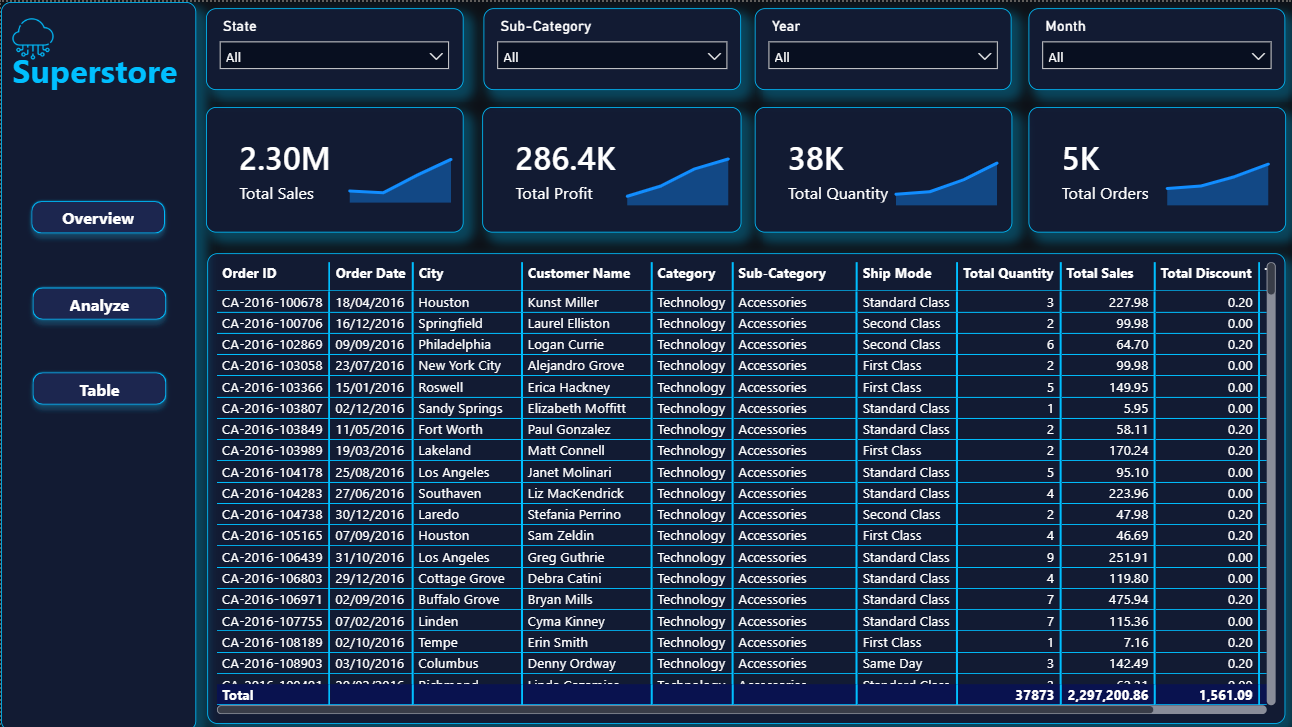

The page's visual inventory and layout, read from the dashboard file:
{"tool":"powerbi","page":{"name":"Table","canvas":[1280,720],"ordinal":2},"visuals":[{"type":"tableEx","fields":{"Values":["Fact_Orders.Order ID","Fact_Orders.Order Date","Dim_Country.City","Dim_Customer.Customer Name","Dim_Category.Category","Dim_Sub-Category.Sub-Category","Dim_Ship Mode.Ship Mode","DAX_Measure (2).Total Quantity","DAX_Measure (2).Total Sales","DAX_Measure (2).Total Discount","DAX_Measure (2).Total Profit"]},"box":[203.8,248.2,1064.6,464.7],"z":0},{"type":"shape","box":[0,0,192.9,720.2],"z":1000},{"type":"actionButton","box":[20.4,188.1,150,50],"z":2000},{"type":"actionButton","box":[21.9,272.4,150,50],"z":3000},{"type":"actionButton","box":[22.5,356.7,150,50],"z":4000},{"type":"textbox","box":[6,40.7,190.5,63.1],"z":5000},{"type":"image","box":[0,15.7,63.1,40.5],"z":6000},{"type":"cardVisual","fields":{"Data":["DAX_Measure (2).Total Sales"]},"box":[202.6,104,254.8,123.8],"z":7000},{"type":"areaChart","fields":{"Category":["Fact_Orders.Order Date.Variation.Date Hierarchy.Year","Fact_Orders.Order Date.Variation.Date Hierarchy.Quarter","Fact_Orders.Order Date.Variation.Date Hierarchy.Month","Fact_Orders.Order Date.Variation.Date Hierarchy.Day"],"Y":["DAX_Measure (2).Total Sales"]},"box":[329.8,133.7,130,70],"z":8000},{"type":"cardVisual","fields":{"Data":["DAX_Measure (2).Total Orders"]},"box":[1014.3,103.6,254.8,123.8],"z":9000},{"type":"cardVisual","fields":{"Data":["DAX_Measure (2).Total Profit"]},"box":[475,103.6,256,123.8],"z":10000},{"type":"cardVisual","fields":{"Data":["DAX_Measure (2).Total Quantity"]},"box":[744,103.6,254.8,123.8],"z":11000},{"type":"areaChart","fields":{"Category":["Fact_Orders.Order Date.Variation.Date Hierarchy.Year","Fact_Orders.Order Date.Variation.Date Hierarchy.Quarter","Fact_Orders.Order Date.Variation.Date Hierarchy.Month","Fact_Orders.Order Date.Variation.Date Hierarchy.Day"],"Y":["DAX_Measure (2).Total Profit"]},"box":[603.6,135.7,129.8,70.2],"z":12000},{"type":"areaChart","fields":{"Category":["Fact_Orders.Order Date.Variation.Date Hierarchy.Year","Fact_Orders.Order Date.Variation.Date Hierarchy.Quarter","Fact_Orders.Order Date.Variation.Date Hierarchy.Month","Fact_Orders.Order Date.Variation.Date Hierarchy.Day"],"Y":["DAX_Measure (2).Total Quantity"]},"box":[869,135.7,129.8,70.2],"z":13000},{"type":"areaChart","fields":{"Category":["Fact_Orders.Order Date.Variation.Date Hierarchy.Year","Fact_Orders.Order Date.Variation.Date Hierarchy.Quarter","Fact_Orders.Order Date.Variation.Date Hierarchy.Month","Fact_Orders.Order Date.Variation.Date Hierarchy.Day"],"Y":["DAX_Measure (2).Total Orders"]},"box":[1136.9,135.7,129.8,70.2],"z":14000},{"type":"slicer","fields":{"Values":["Dim_Country.State"]},"box":[202.4,6,254,81],"z":15000},{"type":"slicer","fields":{"Values":["Dim_Sub-Category.Sub-Category"]},"box":[476.2,6,254.8,81],"z":16000},{"type":"slicer","fields":{"Values":["Fact_Orders.Year"]},"box":[744,6,253.6,81],"z":17000},{"type":"slicer","fields":{"Values":["Fact_Orders.Month"]},"box":[1014.3,6,253.6,81],"z":18000}]}

Visuals, with their boxes in screenshot pixels (x1, y1, x2, y2), scaled from the page's 1280x720 canvas onto the 1292x727 screenshot:
tableEx - Fact_Orders.Order ID x Fact_Orders.Order Date: Rect(206, 251, 1280, 720)
shape: Rect(0, 0, 195, 726)
actionButton: Rect(21, 190, 172, 240)
actionButton: Rect(22, 275, 174, 326)
actionButton: Rect(23, 360, 174, 411)
textbox: Rect(6, 41, 198, 105)
image: Rect(0, 16, 64, 57)
cardVisual - DAX_Measure (2).Total Sales: Rect(204, 105, 462, 230)
areaChart - Fact_Orders.Order Date.Variation.Date Hierarchy.Year x Fact_Orders.Order Date.Variation.Date Hierarchy.Quarter: Rect(333, 135, 464, 206)
cardVisual - DAX_Measure (2).Total Orders: Rect(1024, 105, 1281, 230)
cardVisual - DAX_Measure (2).Total Profit: Rect(479, 105, 738, 230)
cardVisual - DAX_Measure (2).Total Quantity: Rect(751, 105, 1008, 230)
areaChart - Fact_Orders.Order Date.Variation.Date Hierarchy.Year x Fact_Orders.Order Date.Variation.Date Hierarchy.Quarter: Rect(609, 137, 740, 208)
areaChart - Fact_Orders.Order Date.Variation.Date Hierarchy.Year x Fact_Orders.Order Date.Variation.Date Hierarchy.Quarter: Rect(877, 137, 1008, 208)
areaChart - Fact_Orders.Order Date.Variation.Date Hierarchy.Year x Fact_Orders.Order Date.Variation.Date Hierarchy.Quarter: Rect(1148, 137, 1279, 208)
slicer - Dim_Country.State: Rect(204, 6, 461, 88)
slicer - Dim_Sub-Category.Sub-Category: Rect(481, 6, 738, 88)
slicer - Fact_Orders.Year: Rect(751, 6, 1007, 88)
slicer - Fact_Orders.Month: Rect(1024, 6, 1280, 88)
